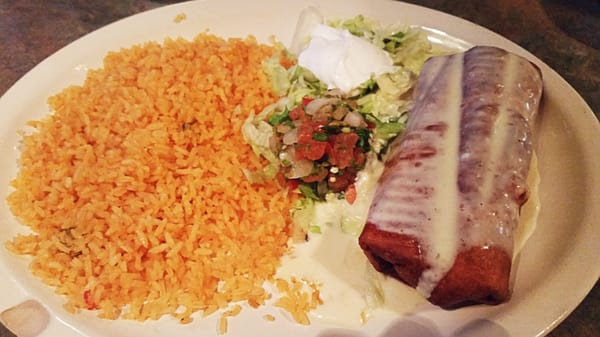burger: (358, 46, 544, 311)
